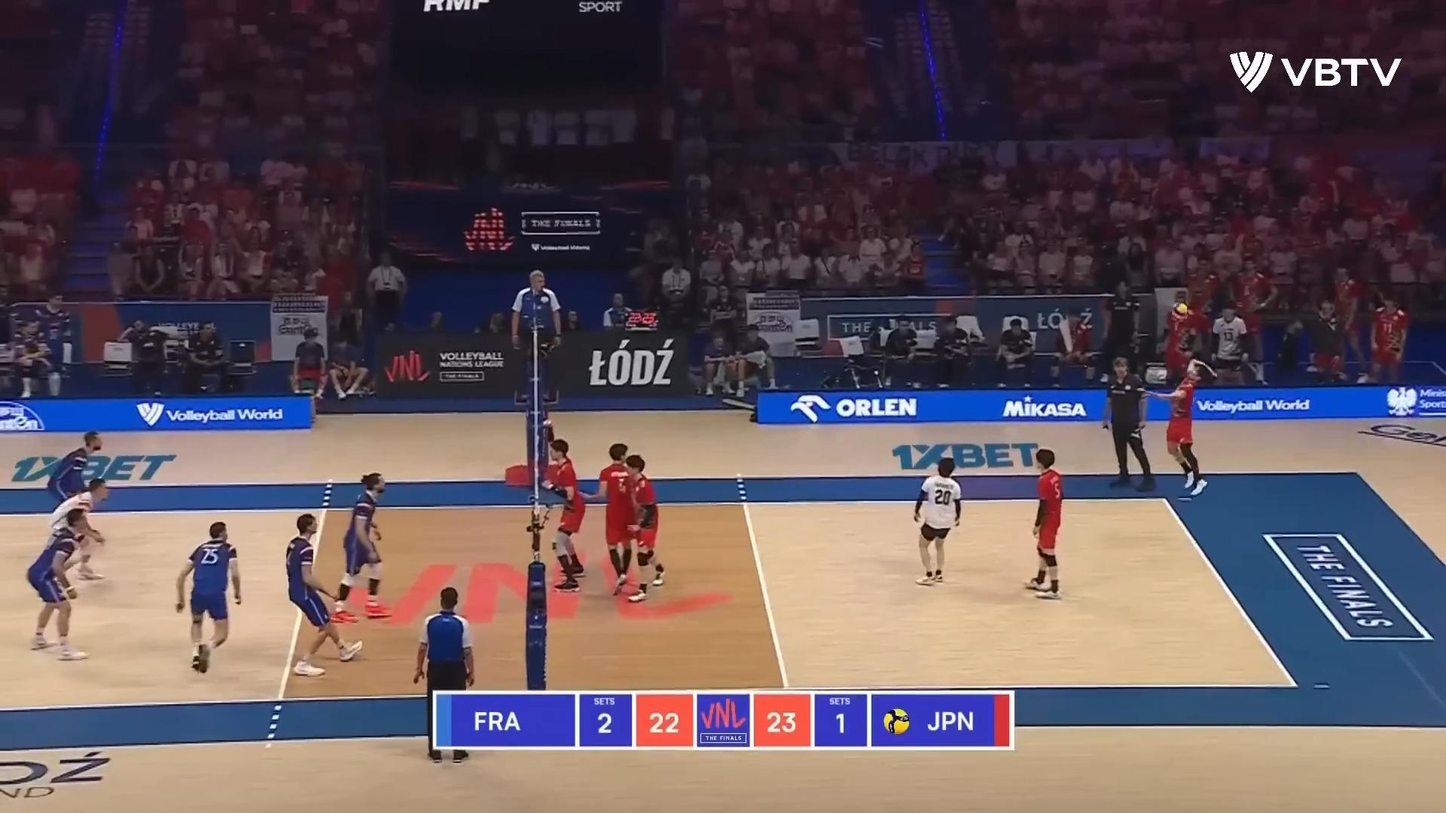ball: (1170, 302, 1191, 321)
